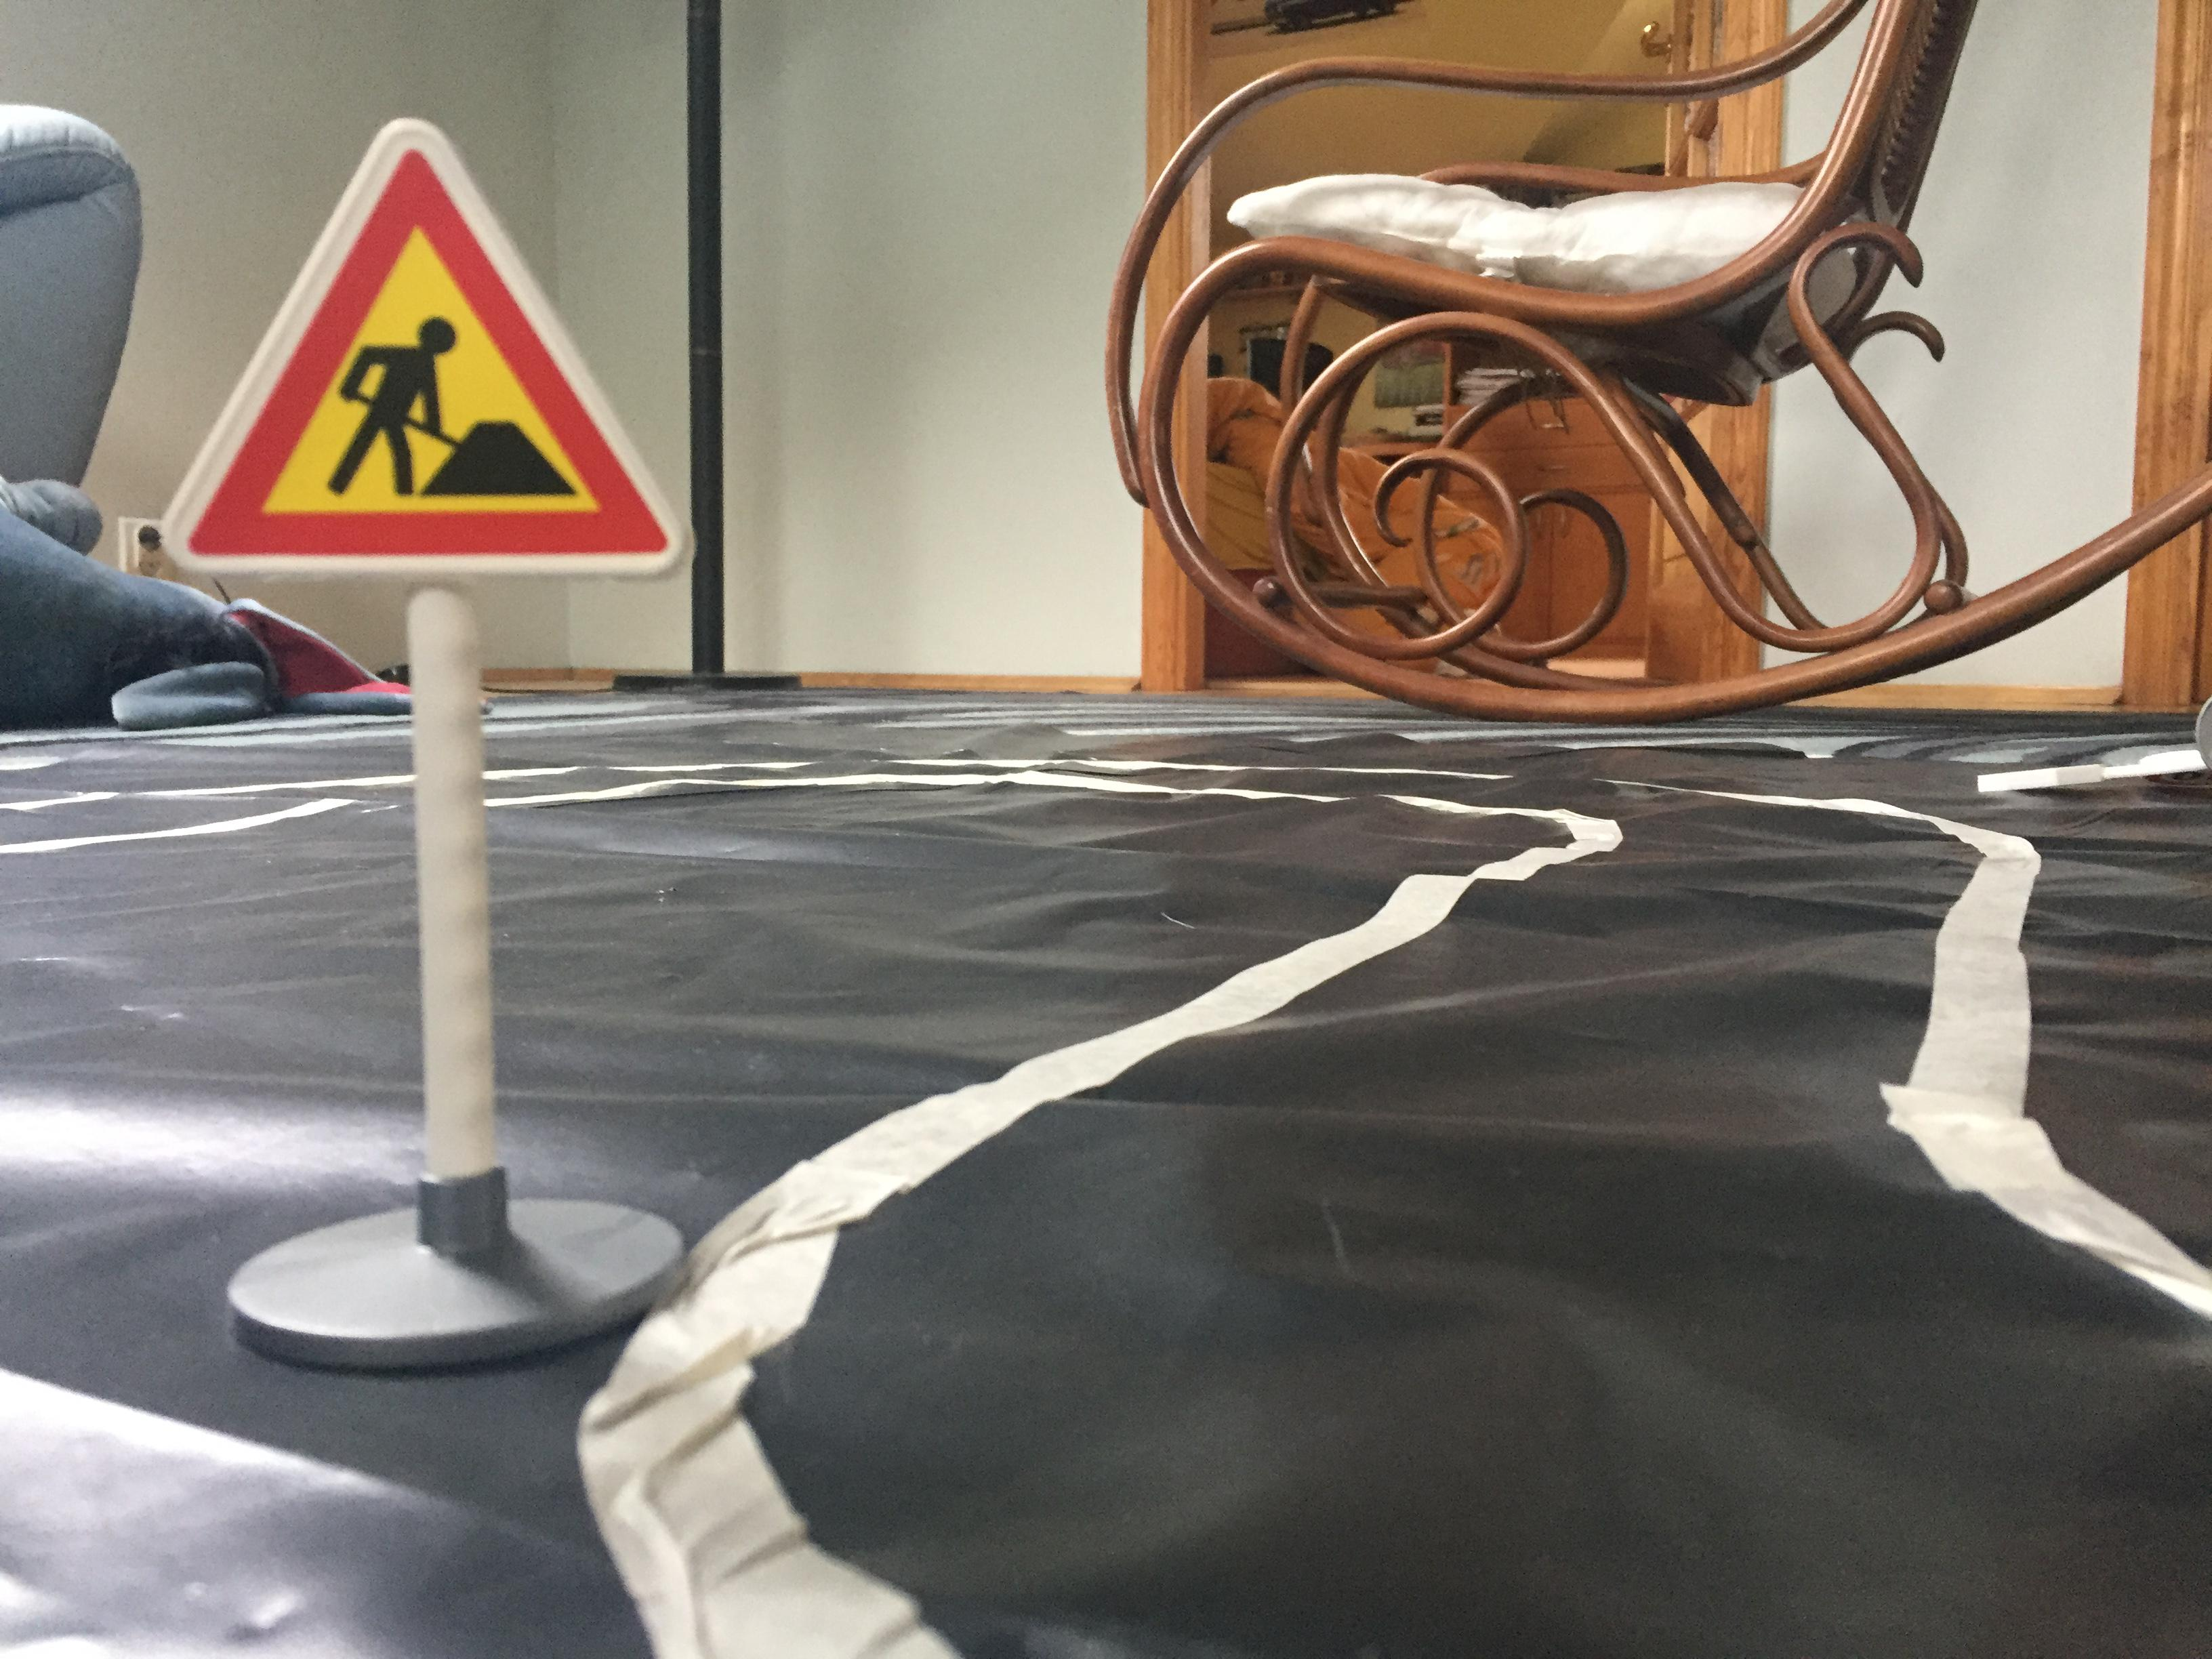work: (146, 94, 738, 591)
